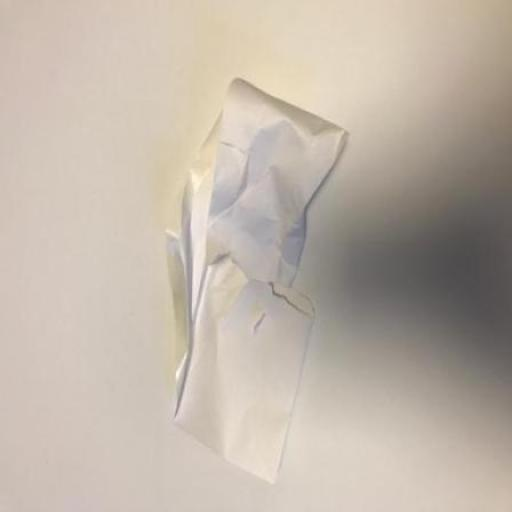paper: (132, 15, 372, 512)
